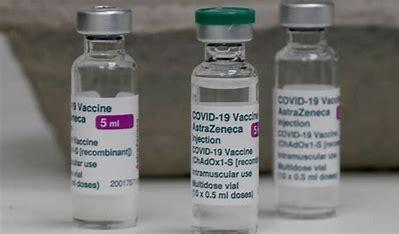Syringe: (186, 3, 262, 234), (66, 1, 141, 234), (271, 1, 344, 223)
